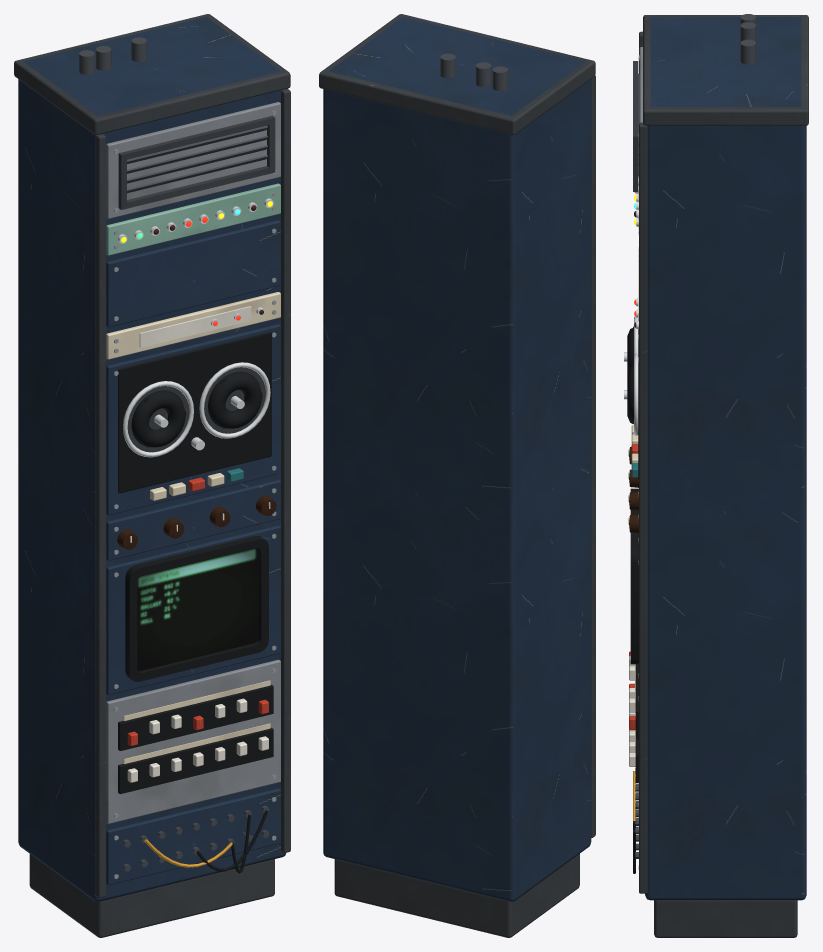
The model's file is Rack_50_1.glb.
The picture shows the model from 3 angles, left to right: view 1: azimuth 30°, elevation 25°; view 2: azimuth 150°, elevation 25°; view 3: azimuth 270°, elevation 25°; orthographic projection.
Parts seen in each view (by area): view 1: Rack_50_1_Body; view 2: Rack_50_1_Body; view 3: Rack_50_1_Body.
Part boxes in pixels (<box>): Rack_50_1_Body: <box>14,14,290,937</box>; Rack_50_1_Body: <box>319,14,595,937</box>; Rack_50_1_Body: <box>624,14,808,937</box>.
Bounding box in the file's own units: 0.51 × 2.1 × 0.412.
21 materials, 10 textured.
